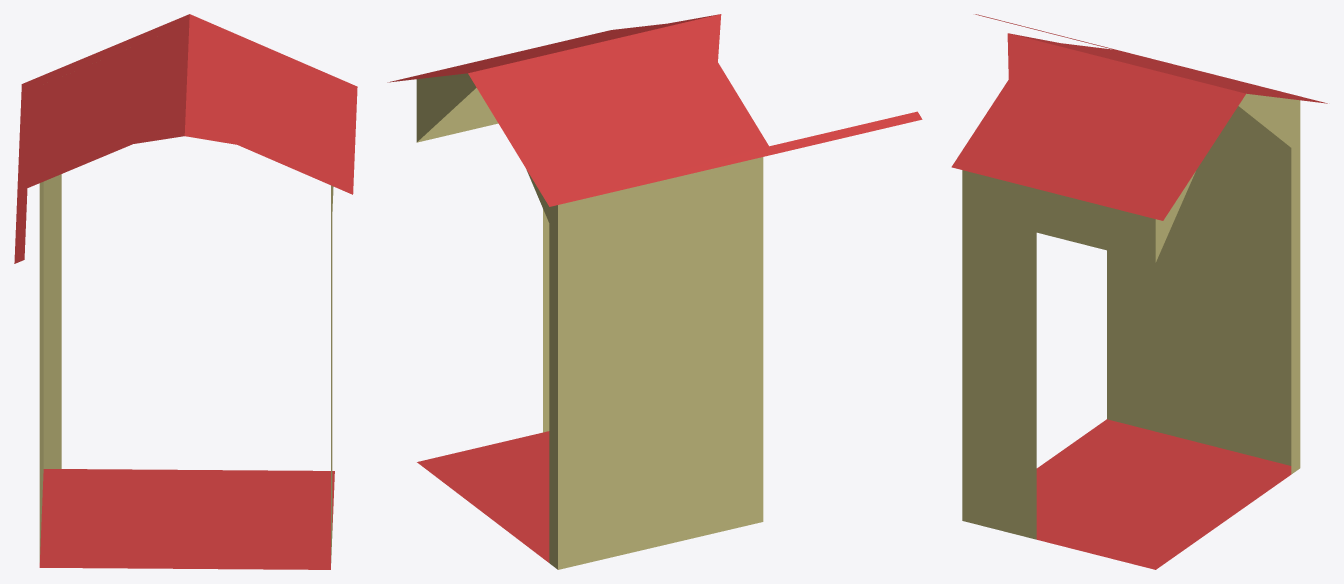
The picture shows the model from 3 angles, left to right: view 1: azimuth 30°, elevation 25°; view 2: azimuth 150°, elevation 25°; view 3: azimuth 270°, elevation 25°; orthographic projection. The views are drawn at different scales.
Size of the model in its own units: 11.4 by 8.83 by 11.07.
